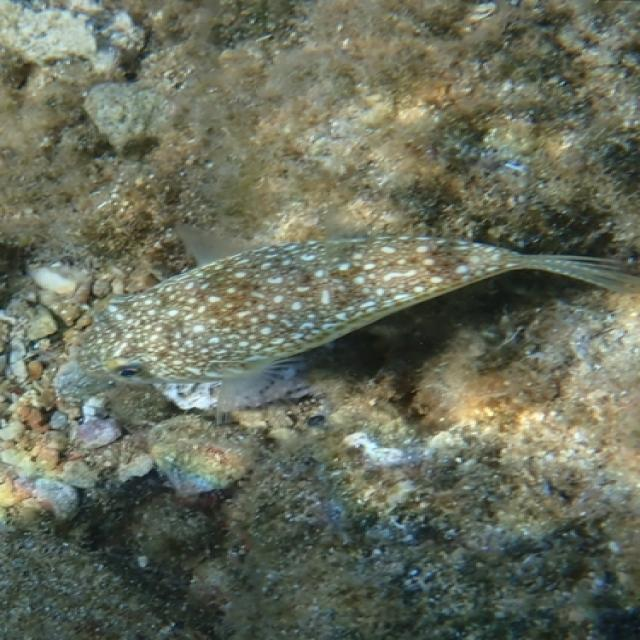Balik: (79, 236, 639, 382)
